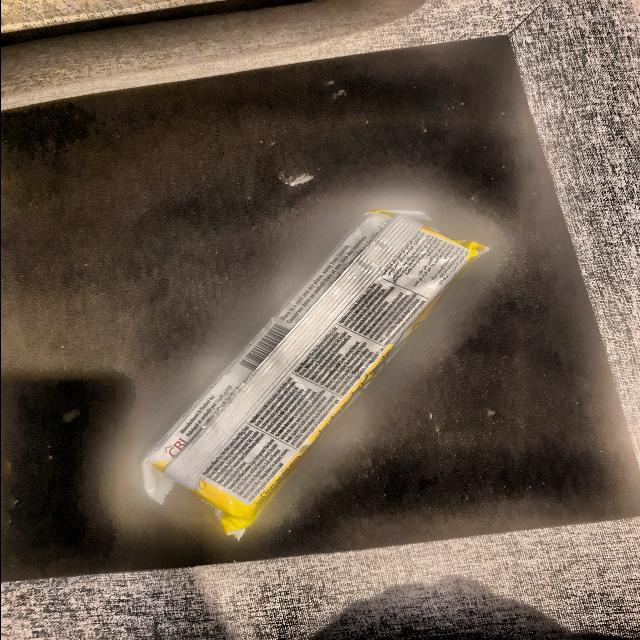lemon puff: (138, 198, 488, 524)
